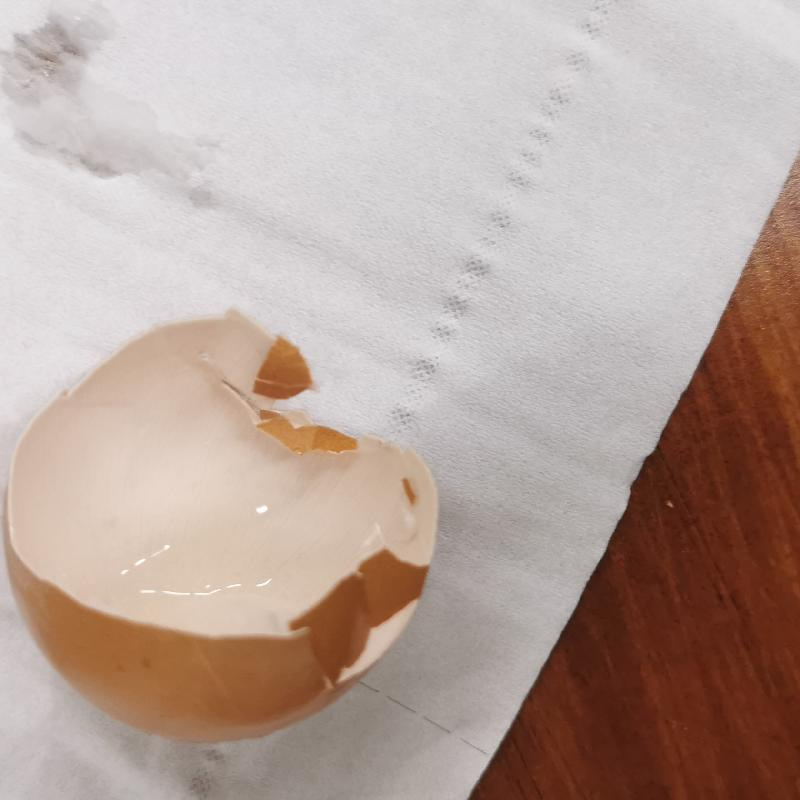eggshell: (3, 311, 440, 741)
